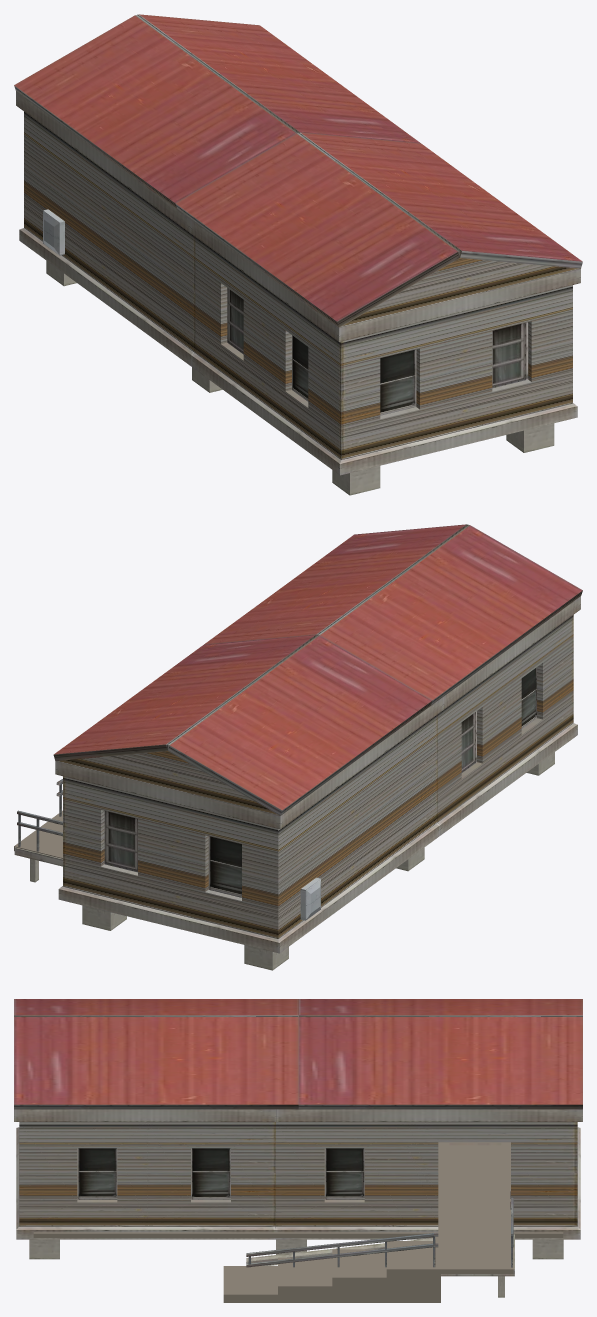
The model's file is rural-mobile-home.walls-v2.lod0.glb.
3 views of the same model, one above another, from view 1: azimuth 30°, elevation 25°; view 2: azimuth 150°, elevation 25°; view 3: azimuth 270°, elevation 25° (orthographic). The views are drawn at different scales.
Parts seen in each view (by area): view 1: Rural_UnmobileHome_1_Rural_Trailer_Stuff_1_0, Rural_UnmobileHome_1_Rural_Facade_FLR_2_0; view 2: Rural_UnmobileHome_1_Rural_Trailer_Stuff_1_0, Rural_UnmobileHome_1_Rural_Facade_FLR_2_0, Walkable floors and stairs; view 3: Rural_UnmobileHome_1_Rural_Trailer_Stuff_1_0, Walkable floors and stairs, Rural_UnmobileHome_1_Rural_Facade_FLR_2_0.
Part boxes in pixels (box(x1,y1,x2,y2)): Rural_UnmobileHome_1_Rural_Trailer_Stuff_1_0: box(14, 14, 582, 459); Rural_UnmobileHome_1_Rural_Facade_FLR_2_0: box(16, 91, 580, 495); Rural_UnmobileHome_1_Rural_Trailer_Stuff_1_0: box(53, 524, 582, 938); Rural_UnmobileHome_1_Rural_Facade_FLR_2_0: box(14, 596, 580, 970); Walkable floors and stairs: box(14, 810, 62, 858); Rural_UnmobileHome_1_Rural_Trailer_Stuff_1_0: box(14, 999, 582, 1226); Walkable floors and stairs: box(33, 1142, 563, 1302); Rural_UnmobileHome_1_Rural_Facade_FLR_2_0: box(14, 1109, 582, 1297).
Size of the model in its own units: 6.67 by 4.39 by 11.38.
Materials: 3 (2 with a texture image).
